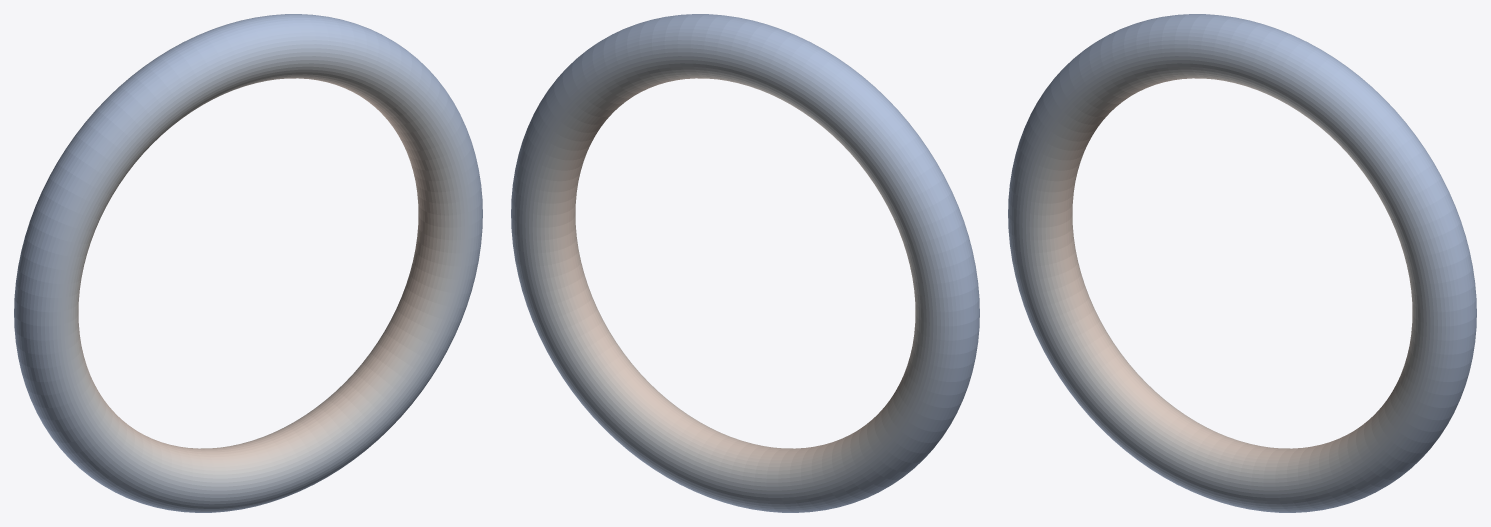
The picture shows the model from 3 angles, left to right: view 1: azimuth 30°, elevation 25°; view 2: azimuth 150°, elevation 25°; view 3: azimuth 330°, elevation 25°; orthographic projection.
Parts seen in each view (by area): view 1: world; view 2: world; view 3: world.
Boxes of the visible parts, x1,y1,x2,y2 form: world: (14, 14, 482, 512); world: (511, 14, 979, 512); world: (1008, 14, 1476, 512).
Size of the model in its own units: 31.87 by 31.87 by 3.86.
